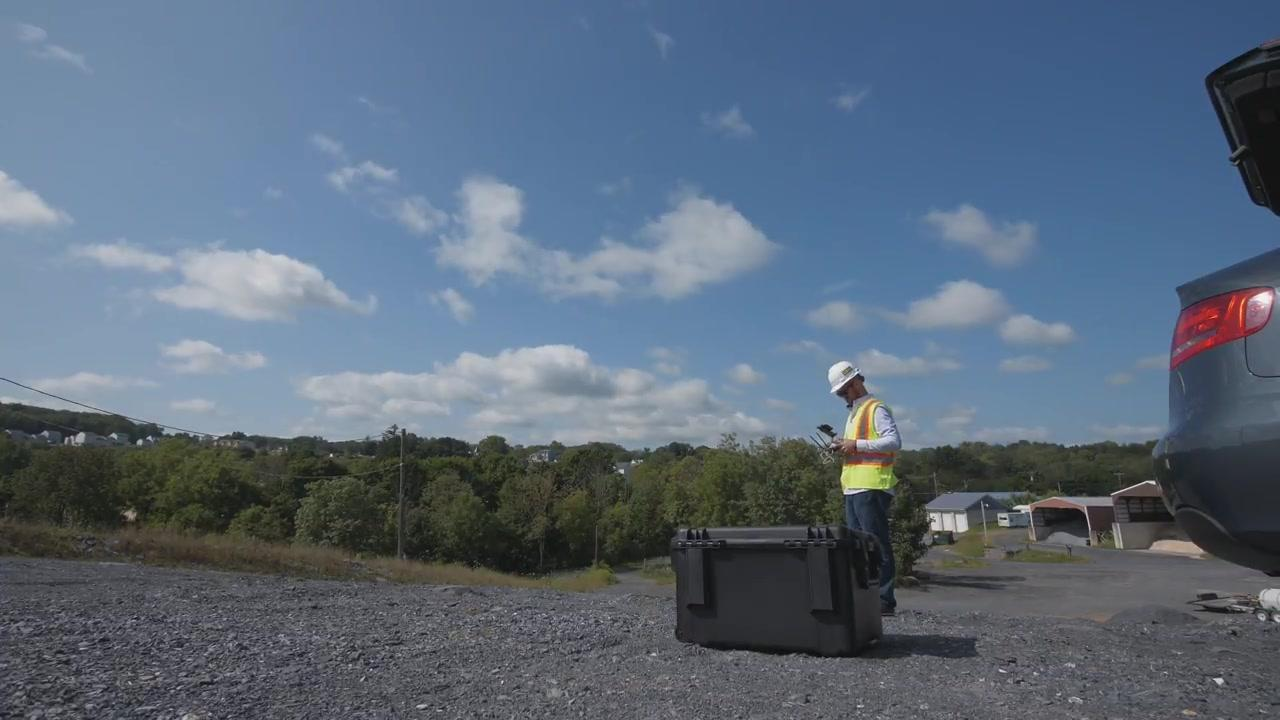vest: (838, 398, 900, 490)
